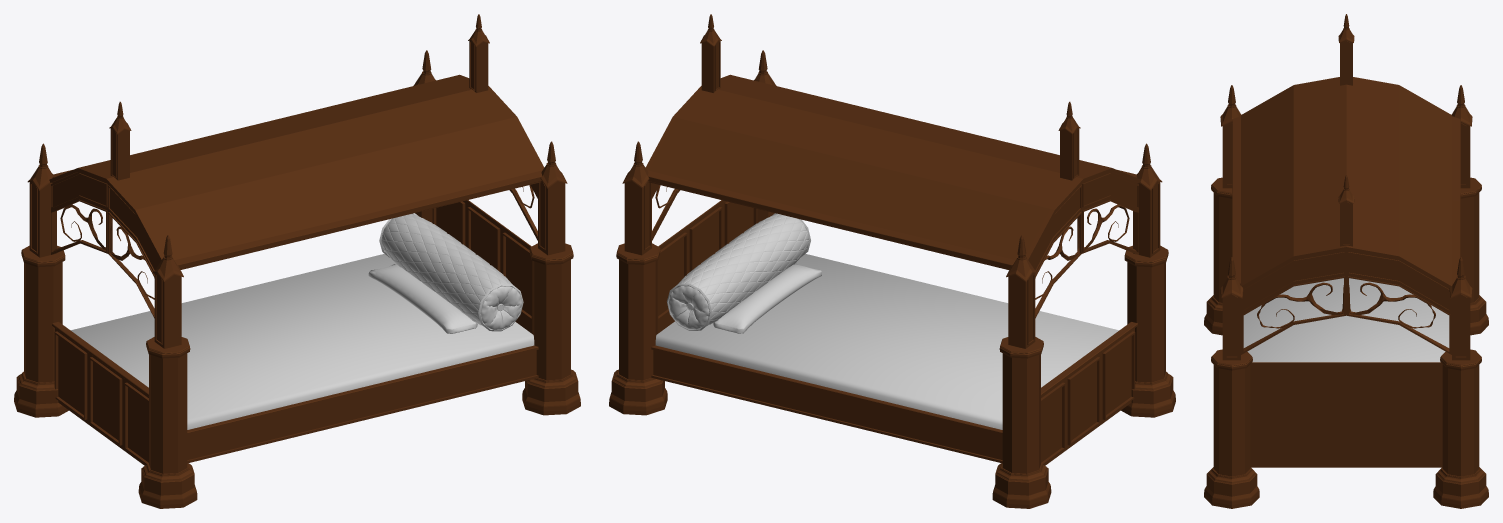
The model's file is Bed.obj.
3 renders of one model, left to right at view 1: azimuth 30°, elevation 25°; view 2: azimuth 150°, elevation 25°; view 3: azimuth 270°, elevation 25°, orthographic. The views are drawn at different scales.
Visible parts, largest first — view 1: BedRoof_Cylinder.004, Mattress_Cube.004, MajorSupports_Cylinder.003, Baseboards_Plane.005, RoundPillow_Cylinder.016, Footboard_Plane, Headboard_Plane.004, SmallPillow_Cube.003; view 2: BedRoof_Cylinder.004, Mattress_Cube.004, MajorSupports_Cylinder.003, Baseboards_Plane.005, RoundPillow_Cylinder.016, Footboard_Plane, Headboard_Plane.004, SmallPillow_Cube.003; view 3: BedRoof_Cylinder.004, MajorSupports_Cylinder.003, Headboard_Plane.004, Mattress_Cube.004.
Part boxes in pixels (x1,y1,x2,y2): BedRoof_Cylinder.004: (49,14,544,318); Mattress_Cube.004: (71,254,534,429); MajorSupports_Cylinder.003: (14,50,580,508); Baseboards_Plane.005: (187,345,538,463); RoundPillow_Cylinder.016: (379,213,523,331); Footboard_Plane: (52,322,148,465); Headboard_Plane.004: (432,200,532,333); SmallPillow_Cube.003: (368,264,477,333); BedRoof_Cylinder.004: (645,14,1140,318); Mattress_Cube.004: (655,254,1118,429); MajorSupports_Cylinder.003: (609,50,1175,508); Baseboards_Plane.005: (651,345,1002,463); RoundPillow_Cylinder.016: (667,213,810,330); Footboard_Plane: (1041,322,1137,465); Headboard_Plane.004: (657,200,757,333); SmallPillow_Cube.003: (713,263,821,333); BedRoof_Cylinder.004: (1232,14,1460,354); MajorSupports_Cylinder.003: (1204,85,1488,508); Headboard_Plane.004: (1250,362,1442,467); Mattress_Cube.004: (1243,278,1449,362).
Size of the model in its own units: 5.05 by 3.82 by 3.11.
